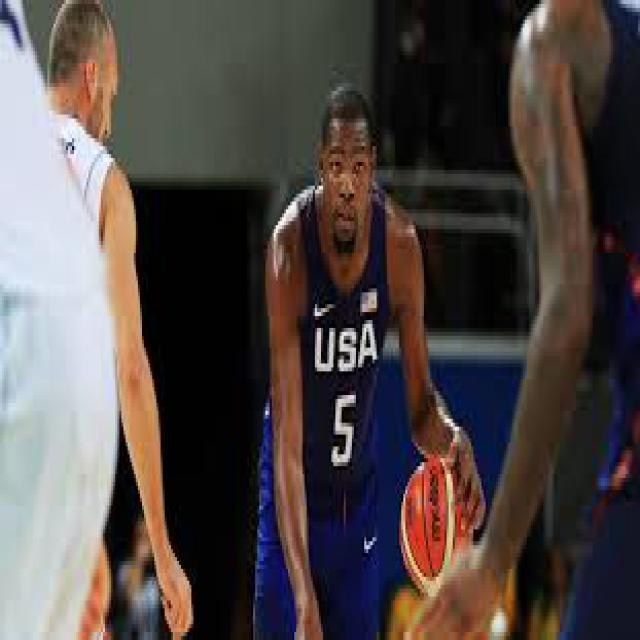basketball: (402, 462, 474, 608)
